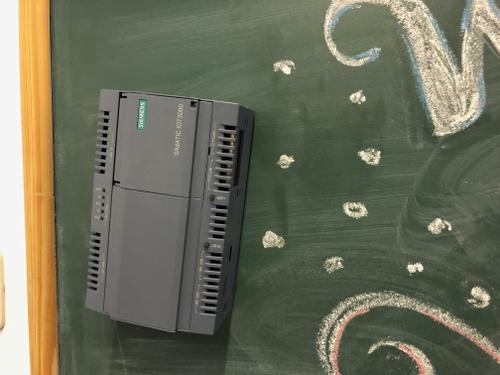device: (85, 88, 254, 334)
